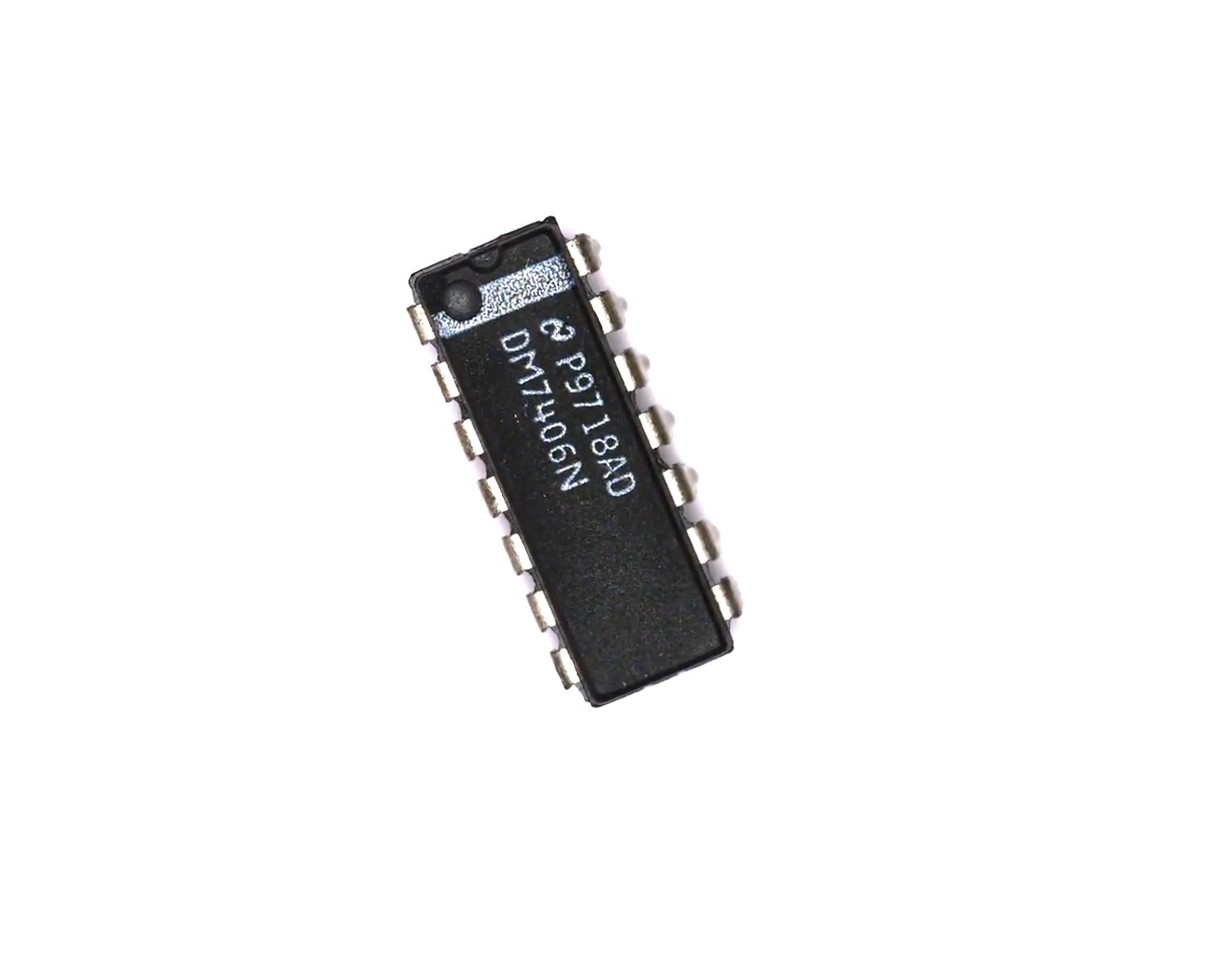IC: (380, 190, 769, 729)
notch: (463, 242, 511, 277)
